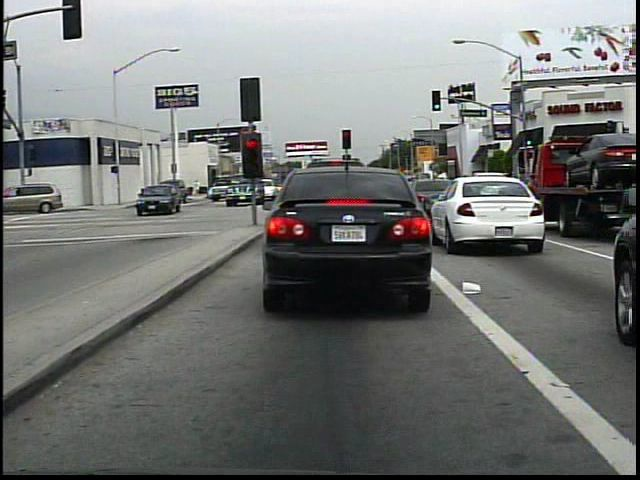person: (192, 176, 203, 200)
